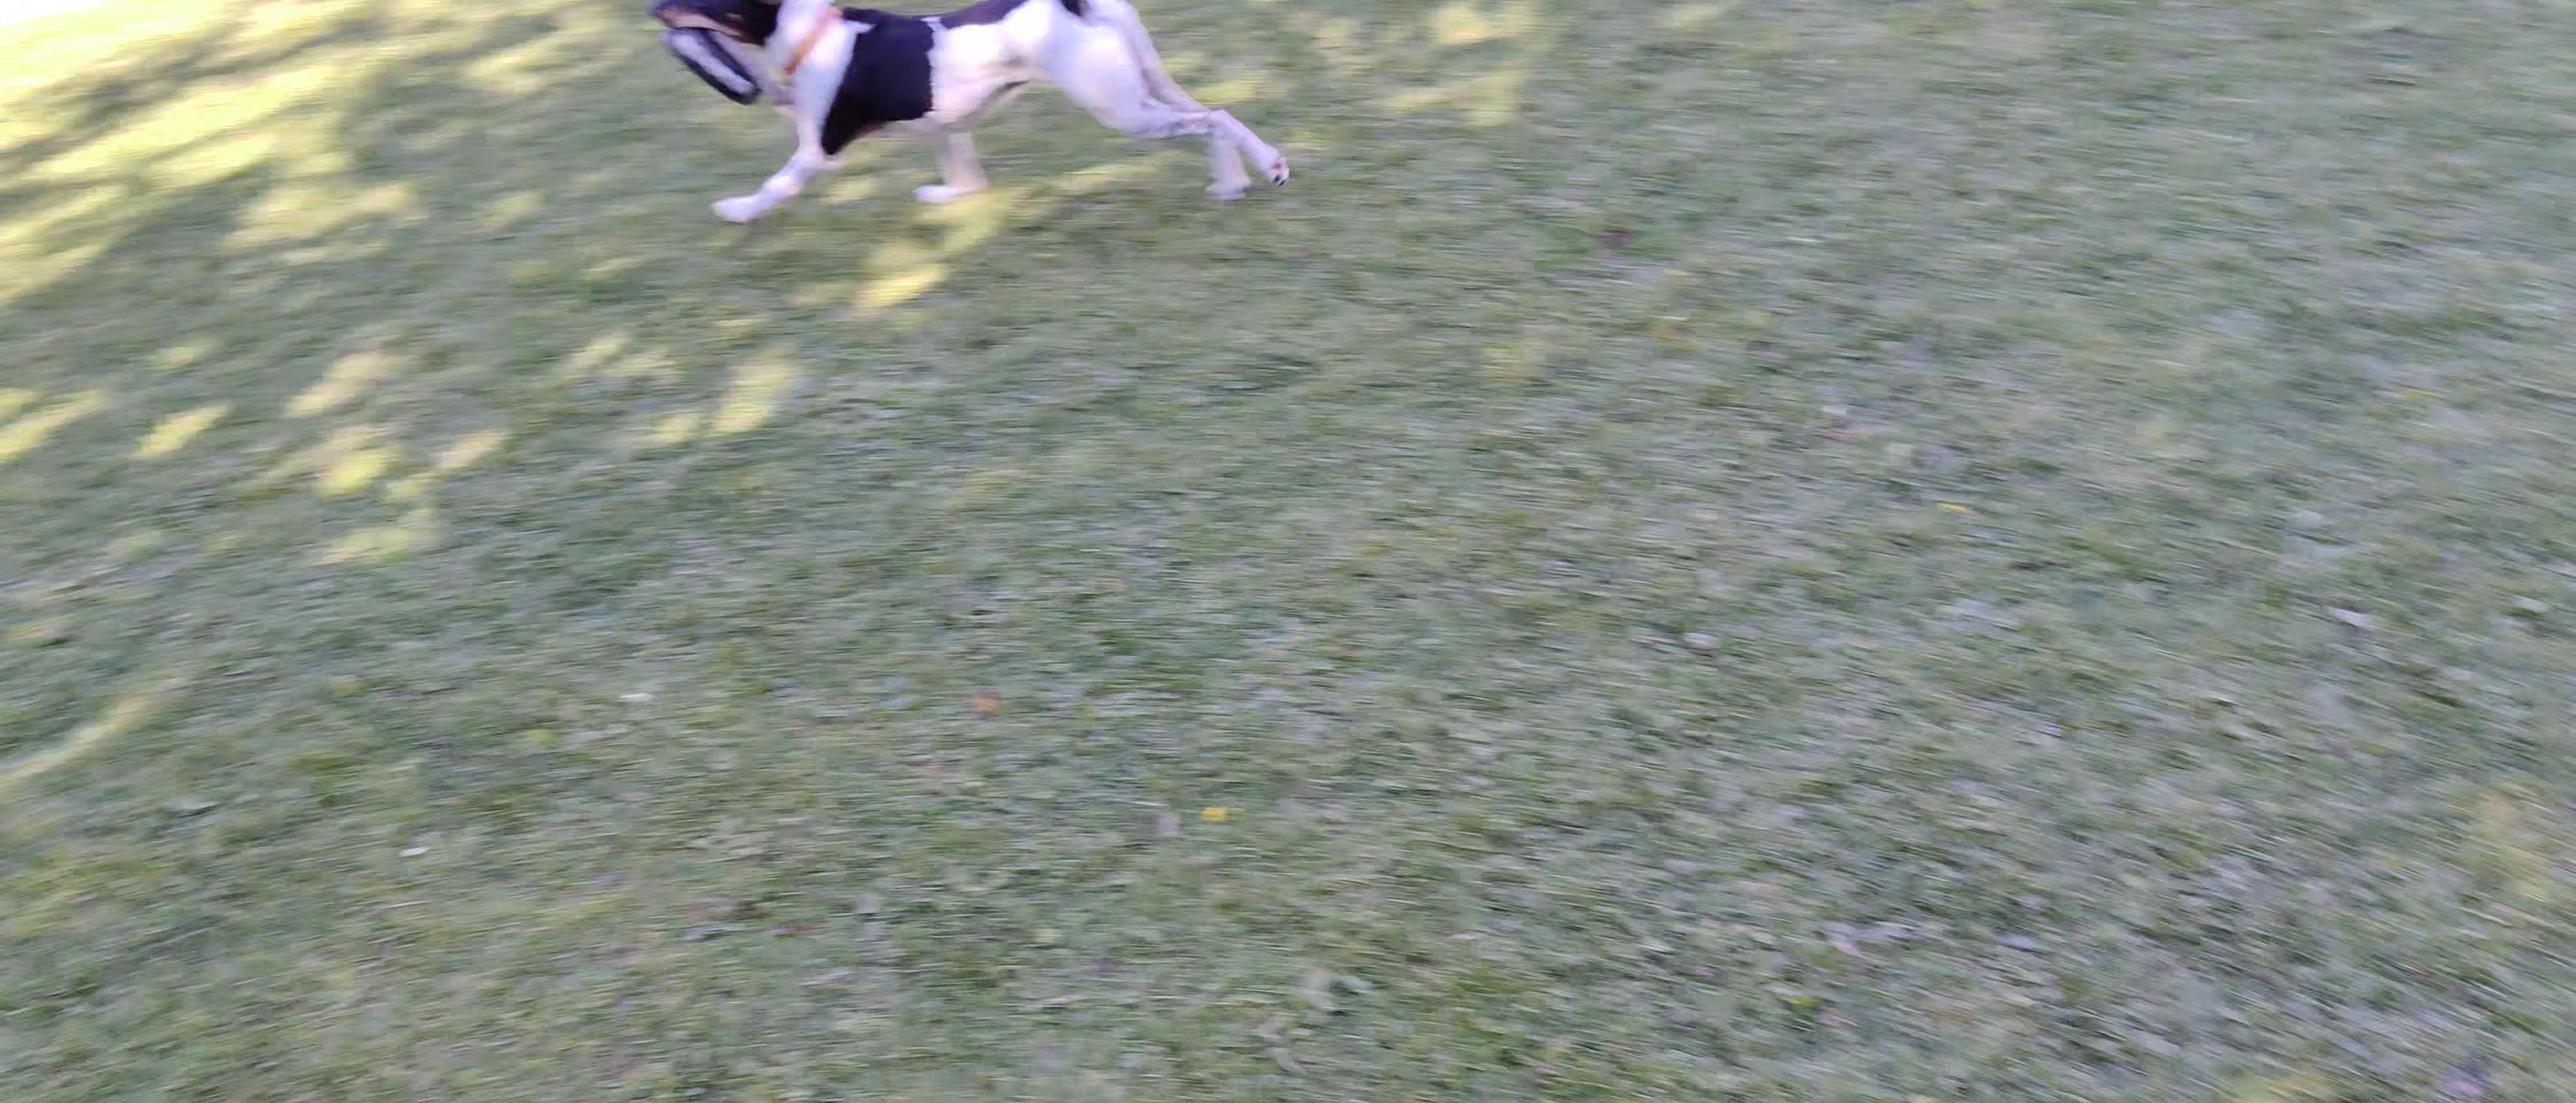Dog: (646, 0, 1298, 230)
